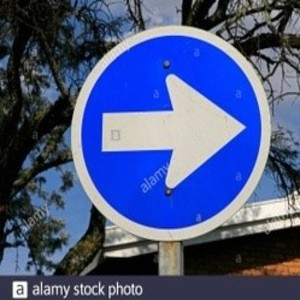trun_right: (71, 26, 276, 240)
